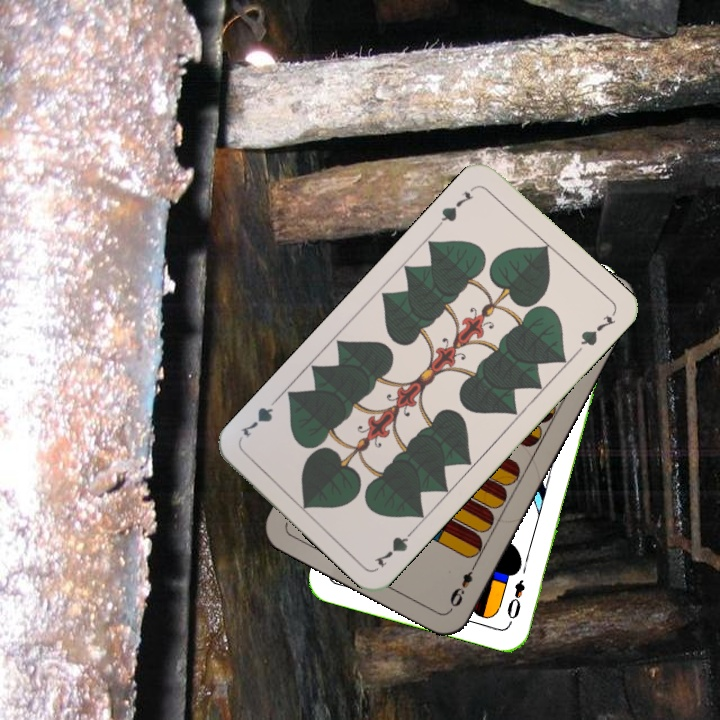E9: (445, 557, 480, 612)
EO: (503, 575, 528, 627)
G7: (370, 522, 419, 570), (434, 187, 477, 230)
